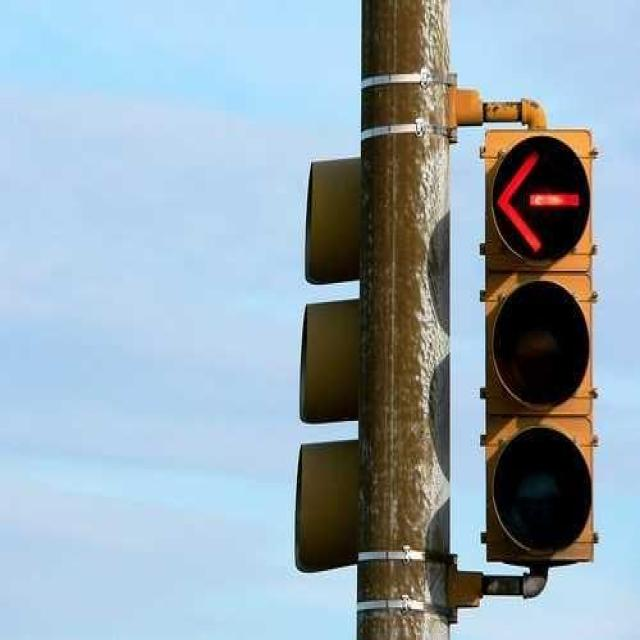Traffic Light -Red-: (467, 126, 609, 566)
